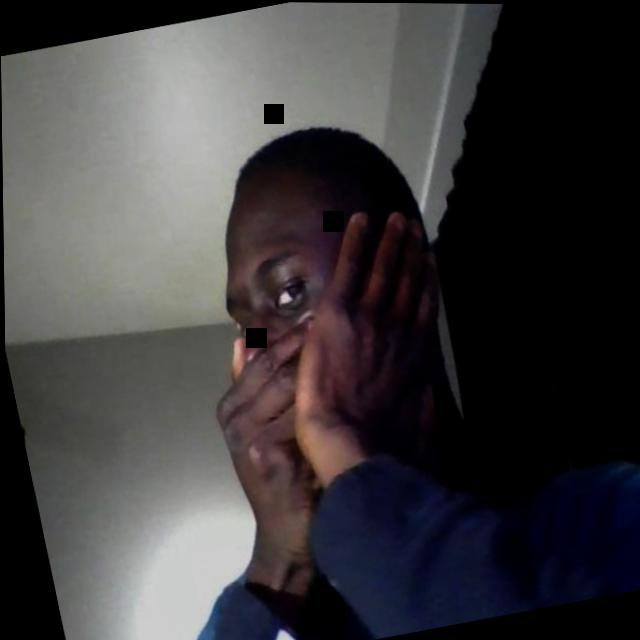NO-Mask: (208, 197, 381, 382)
